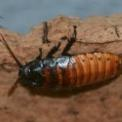cockroach: (18, 48, 122, 94)
